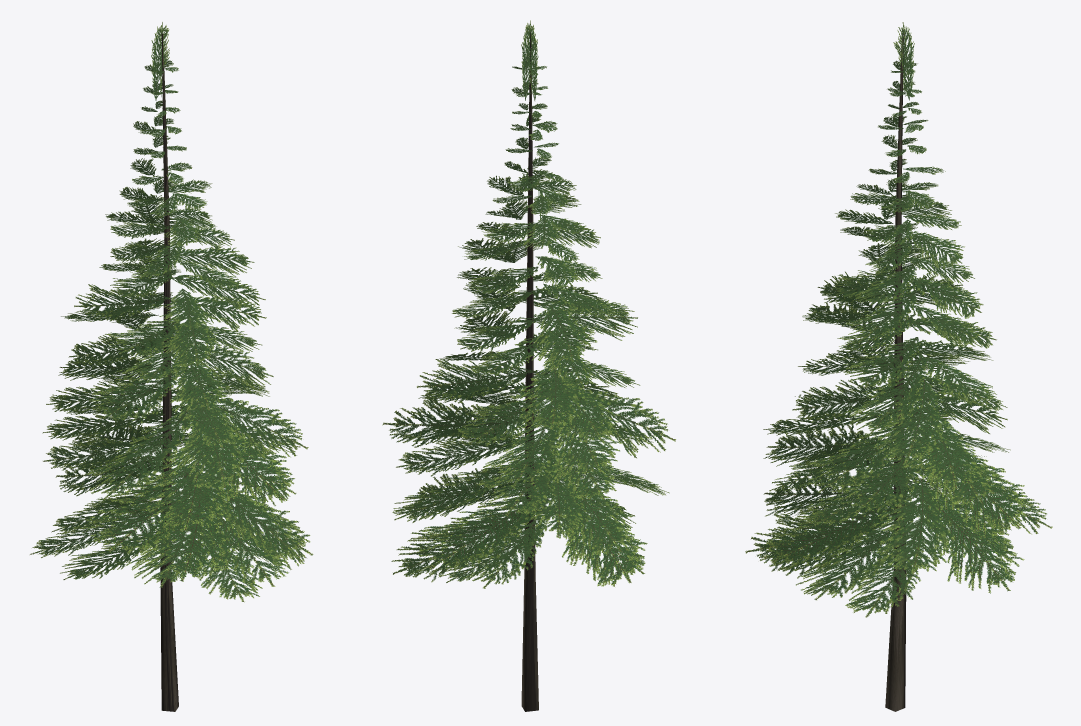
File: mid.glb
The picture shows the model from 3 angles, left to right: view 1: azimuth 30°, elevation 25°; view 2: azimuth 150°, elevation 25°; view 3: azimuth 270°, elevation 25°; orthographic projection.
Visible parts, largest first — view 1: spruce_01; view 2: spruce_01; view 3: spruce_01.
Boxes of the visible parts, x1,y1,x2,y2 form: spruce_01: (30,22,313,711); spruce_01: (382,20,675,711); spruce_01: (745,22,1052,711).
Size of the model in its own units: 7.09 by 16.34 by 7.39.
2 materials, 2 textured.
